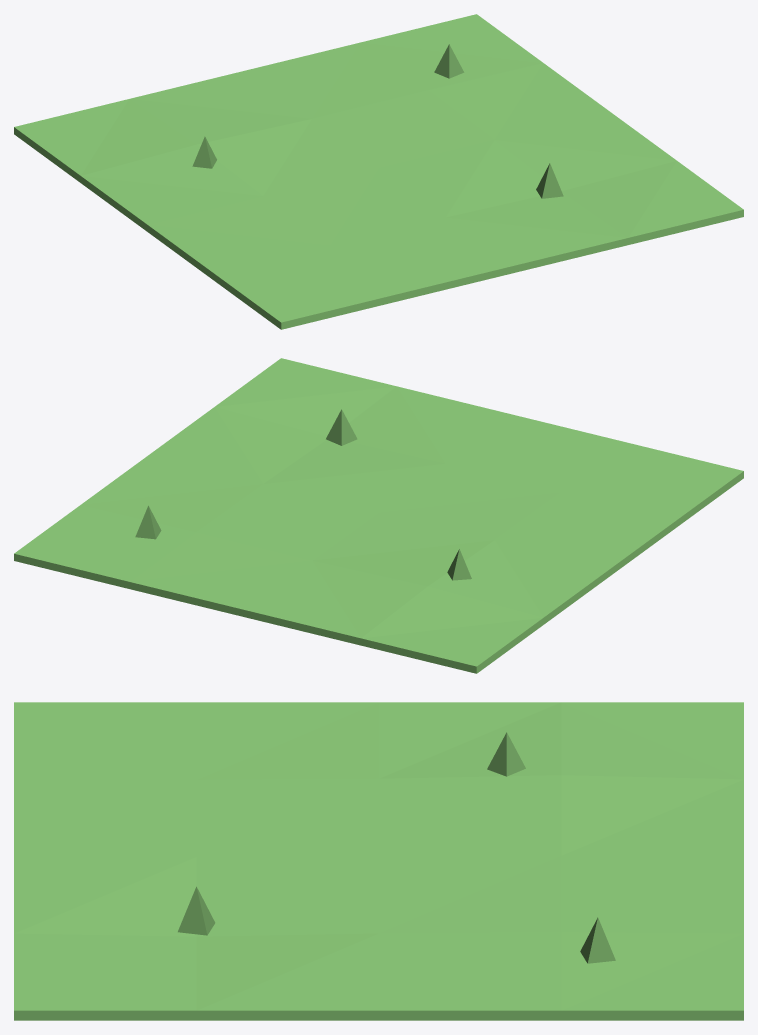
The model's file is lantai_taman_v001.glb.
3 views of the same model, one above another, from view 1: azimuth 30°, elevation 25°; view 2: azimuth 150°, elevation 25°; view 3: azimuth 270°, elevation 25° (orthographic). The views are drawn at different scales.
Visible parts, largest first — view 1: lantai_taman; view 2: lantai_taman; view 3: lantai_taman.
Boxes of the visible parts, x1,y1,x2,y2 form: lantai_taman: (14,14,743,329); lantai_taman: (14,358,743,673); lantai_taman: (14,702,743,1020).
Bounding box in the file's own units: 4 × 0.3 × 4.
